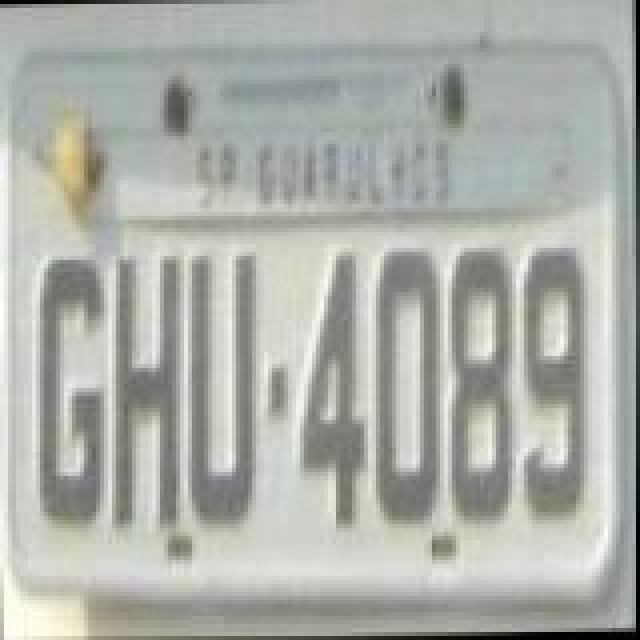4: (296, 248, 368, 532)
8: (444, 246, 516, 530)
9: (516, 238, 588, 522)
G: (36, 254, 108, 530)
H: (106, 250, 182, 534)
O: (372, 246, 444, 530)
U: (186, 246, 262, 530)
